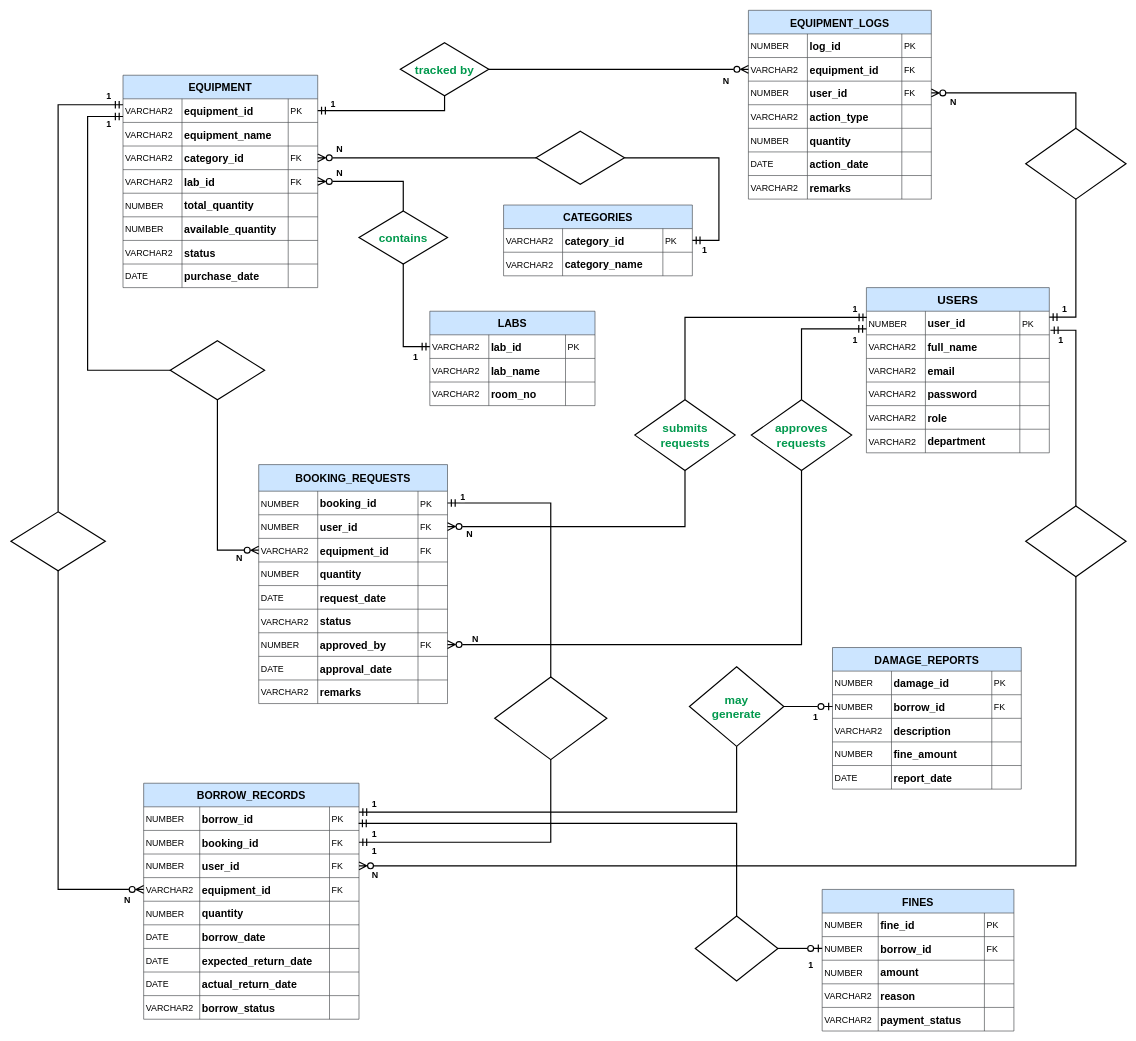
Some shapes in this 1136 by 1041 pixel diagram are drawn without their labels. Here are the shapes that lost their labels. From the top down, the centre of each, then its label:
the point at 580,157: categorizes
the point at 1075,163: performs actions
the point at 217,370: requested in
the point at 58,541: borrowed as
the point at 1075,541: borrows equipment
the point at 550,718: approved request creates
the point at 736,948: may incur
